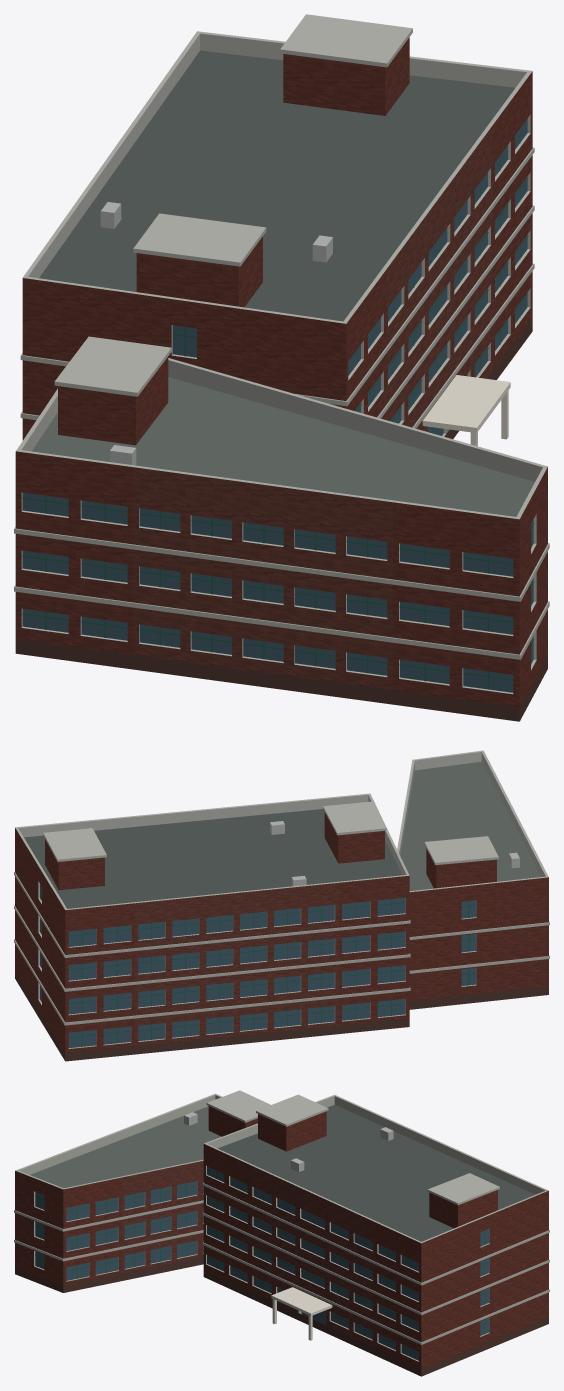
3 renders of one model, top to bottom at view 1: azimuth 30°, elevation 25°; view 2: azimuth 150°, elevation 25°; view 3: azimuth 270°, elevation 25°, orthographic. The views are drawn at different scales.
Parts seen in each view (by area): view 1: northwest__brick, northwest__roof, northwest__trim-concrete, northwest__wall-plaster, northwest__glass, main-extension1__roof, northwest__base-stone, northwest__frame, northwest__canopy-concrete, northwest__equipment; view 2: northwest__brick, northwest__trim-concrete, northwest__roof, northwest__glass, northwest__wall-plaster, main-extension1__roof, northwest__base-stone, northwest__frame, northwest__equipment; view 3: northwest__brick, northwest__trim-concrete, northwest__wall-plaster, northwest__roof, northwest__glass, main-extension1__roof, northwest__base-stone, northwest__frame, northwest__canopy-concrete, northwest__equipment.
Boxes of the visible parts, bbox=[...] form: northwest__brick: bbox=[15, 37, 547, 707]; northwest__roof: bbox=[39, 50, 515, 321]; northwest__trim-concrete: bbox=[14, 14, 549, 694]; northwest__wall-plaster: bbox=[133, 125, 492, 689]; northwest__glass: bbox=[22, 118, 533, 692]; main-extension1__roof: bbox=[31, 377, 534, 516]; northwest__base-stone: bbox=[15, 317, 547, 721]; northwest__frame: bbox=[22, 128, 534, 689]; northwest__canopy-concrete: bbox=[422, 375, 510, 446]; northwest__equipment: bbox=[100, 202, 332, 465]; northwest__brick: bbox=[15, 812, 548, 1052]; northwest__trim-concrete: bbox=[14, 750, 549, 1048]; northwest__roof: bbox=[24, 809, 401, 908]; northwest__glass: bbox=[40, 884, 476, 1047]; northwest__wall-plaster: bbox=[135, 883, 338, 1045]; main-extension1__roof: bbox=[400, 761, 540, 890]; northwest__base-stone: bbox=[15, 970, 548, 1061]; northwest__frame: bbox=[39, 886, 476, 1046]; northwest__equipment: bbox=[270, 821, 519, 886]; northwest__brick: bbox=[15, 1106, 548, 1369]; northwest__trim-concrete: bbox=[14, 1090, 549, 1361]; northwest__wall-plaster: bbox=[122, 1160, 374, 1347]; northwest__roof: bbox=[217, 1104, 535, 1241]; northwest__glass: bbox=[35, 1166, 488, 1360]; main-extension1__roof: bbox=[30, 1106, 221, 1188]; northwest__base-stone: bbox=[15, 1257, 548, 1376]; northwest__frame: bbox=[35, 1170, 488, 1356]; northwest__canopy-concrete: bbox=[271, 1287, 332, 1340]; northwest__equipment: bbox=[184, 1112, 393, 1171].
Bounding box in the file's own units: 46.83 × 18.45 × 58.83.
Materials: 10 (2 with a texture image).
